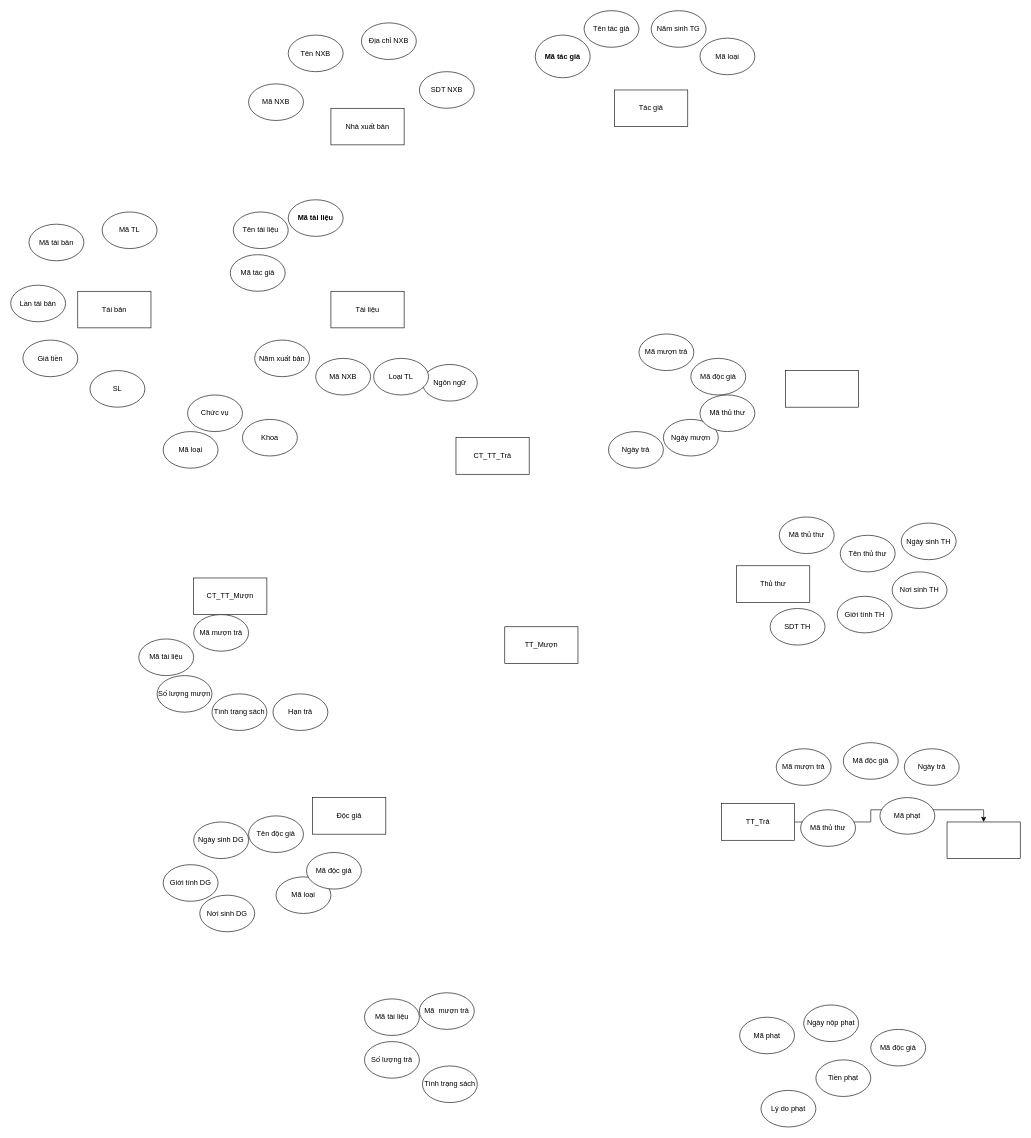
Some shapes in this 1031 by 1138 pixel diagram are drawn without their labels. Each missing label, with the box of its shape:
TT_Phạt: (946, 821, 1020, 859)
Đối tượng: (785, 370, 859, 407)
